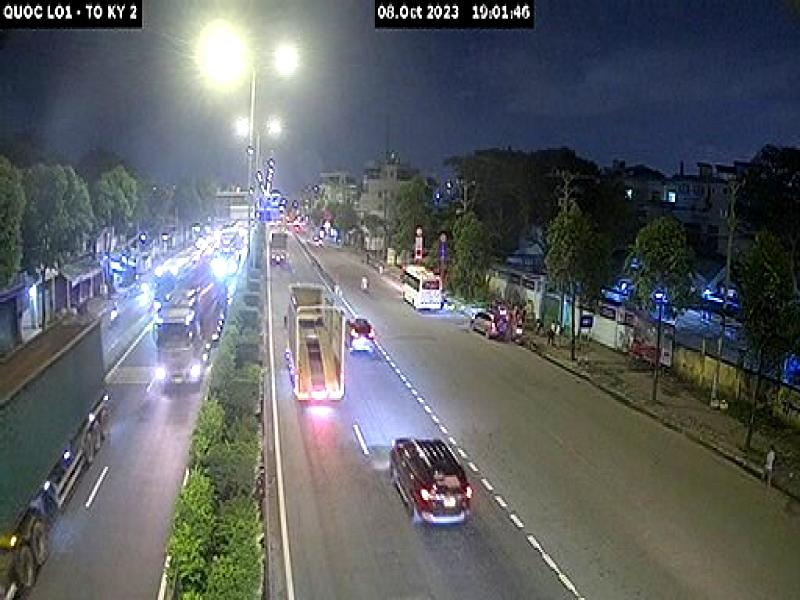bus: (392, 257, 450, 330)
car: (377, 414, 476, 555), (347, 306, 377, 382), (467, 302, 506, 348)
